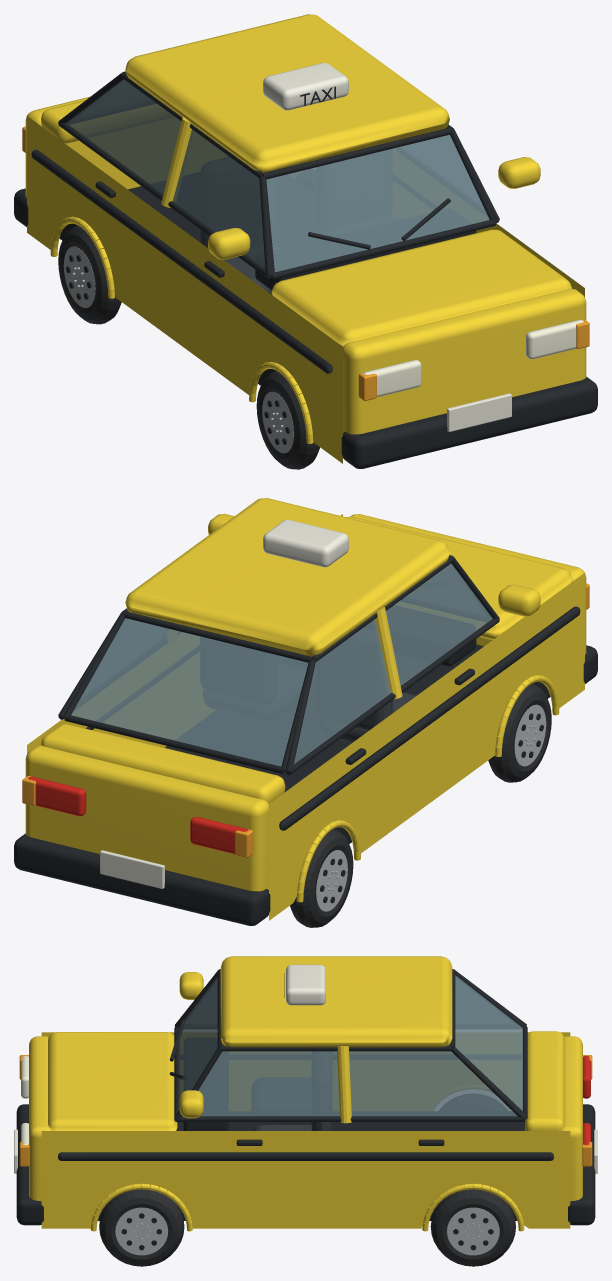
The model's file is tico.glb.
The picture shows the model from 3 angles, top to bottom: view 1: azimuth 30°, elevation 25°; view 2: azimuth 150°, elevation 25°; view 3: azimuth 270°, elevation 25°; orthographic projection. The views are drawn at different scales.
Visible parts, largest first — view 1: Chapa lateral, Cristal real, Bastidor, Placa, Faro delantero, Torus.002, Torus, Cylinder.026, Cylinder.029, Senal de giro; view 2: Chapa lateral, Cristal real, Bastidor, Placa, Faro trasero, Torus.002, Torus, Cylinder.029, Cylinder.026, Senal de giro, Asiento delantero; view 3: Chapa lateral, Cristal real, Bastidor, Torus.003, Torus.001, Placa, Cylinder.010, Cylinder.012, Senal de giro, Asiento delantero, Faro delantero, Faro trasero.
Part boxes in pixels (x1,y1,x2,y2): Chapa lateral: (25, 14, 586, 463); Cristal real: (66, 79, 489, 272); Bastidor: (14, 71, 597, 468); Placa: (263, 62, 511, 431); Faro delantero: (363, 319, 583, 397); Torus.002: (58, 225, 121, 324); Torus: (256, 370, 319, 469); Cylinder.026: (63, 246, 95, 308); Cylinder.029: (262, 391, 293, 453); Senal de giro: (22, 126, 589, 400); Chapa lateral: (25, 498, 586, 920); Cristal real: (71, 563, 492, 766); Bastidor: (14, 555, 597, 925); Placa: (100, 519, 348, 888); Faro trasero: (28, 776, 248, 854); Torus.002: (290, 829, 353, 927); Torus: (488, 683, 551, 782); Cylinder.029: (514, 704, 546, 766); Cylinder.026: (316, 850, 347, 911); Senal de giro: (22, 583, 589, 857); Asiento delantero: (339, 692, 416, 742); Chapa lateral: (29, 956, 582, 1231); Cristal real: (178, 975, 522, 1116); Bastidor: (16, 969, 595, 1225); Torus.003: (430, 1189, 515, 1266); Torus.001: (99, 1189, 184, 1266); Placa: (14, 964, 597, 1173); Cylinder.010: (447, 1207, 499, 1255); Cylinder.012: (115, 1207, 168, 1255); Senal de giro: (19, 1055, 592, 1166); Asiento delantero: (253, 1122, 332, 1130); Faro delantero: (21, 1055, 28, 1145); Faro trasero: (583, 1055, 590, 1145).
Size of the model in its own units: 1.95 by 1.66 by 3.63.
